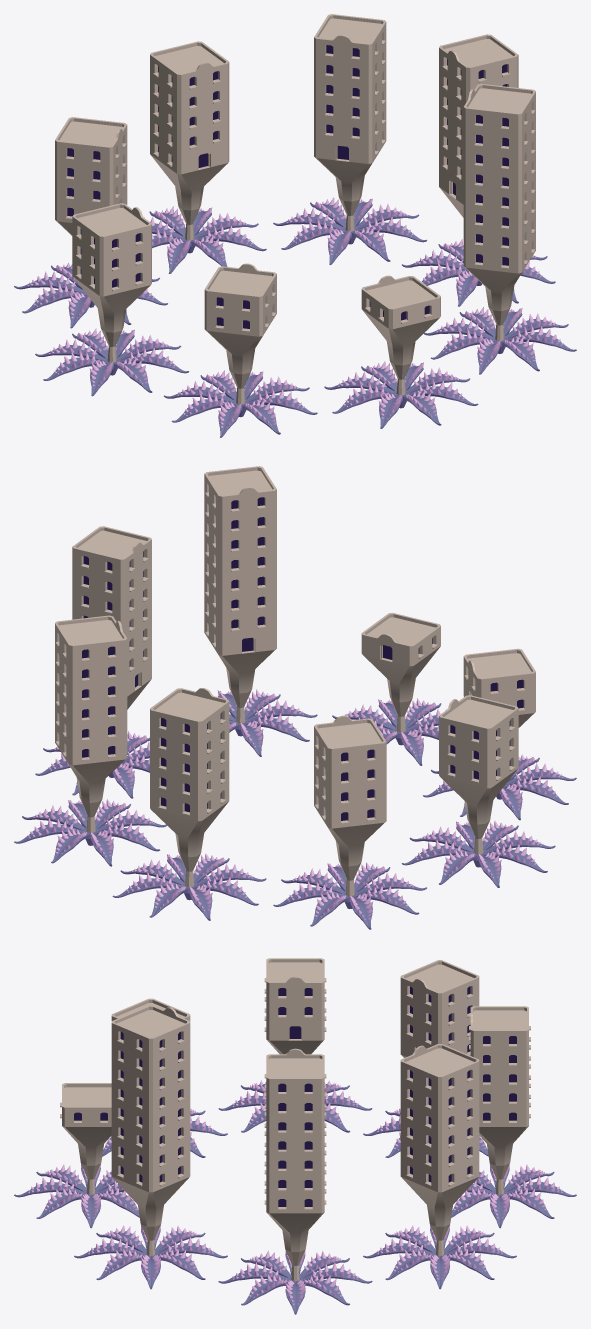
The model's file is HouseExportDoNotUse.fbx.
3 renders of one model, top to bottom at view 1: azimuth 30°, elevation 25°; view 2: azimuth 150°, elevation 25°; view 3: azimuth 270°, elevation 25°, orthographic. The views are drawn at different scales.
Visible parts, largest first — view 1: Houses; view 2: Houses; view 3: Houses.
Part boxes in pixels (x1,y1,x2,y2): Houses: (14,14,576,437); Houses: (14,466,576,929); Houses: (14,958,576,1314).
Bounding box in the file's own units: 25.56 × 12.55 × 25.56.
